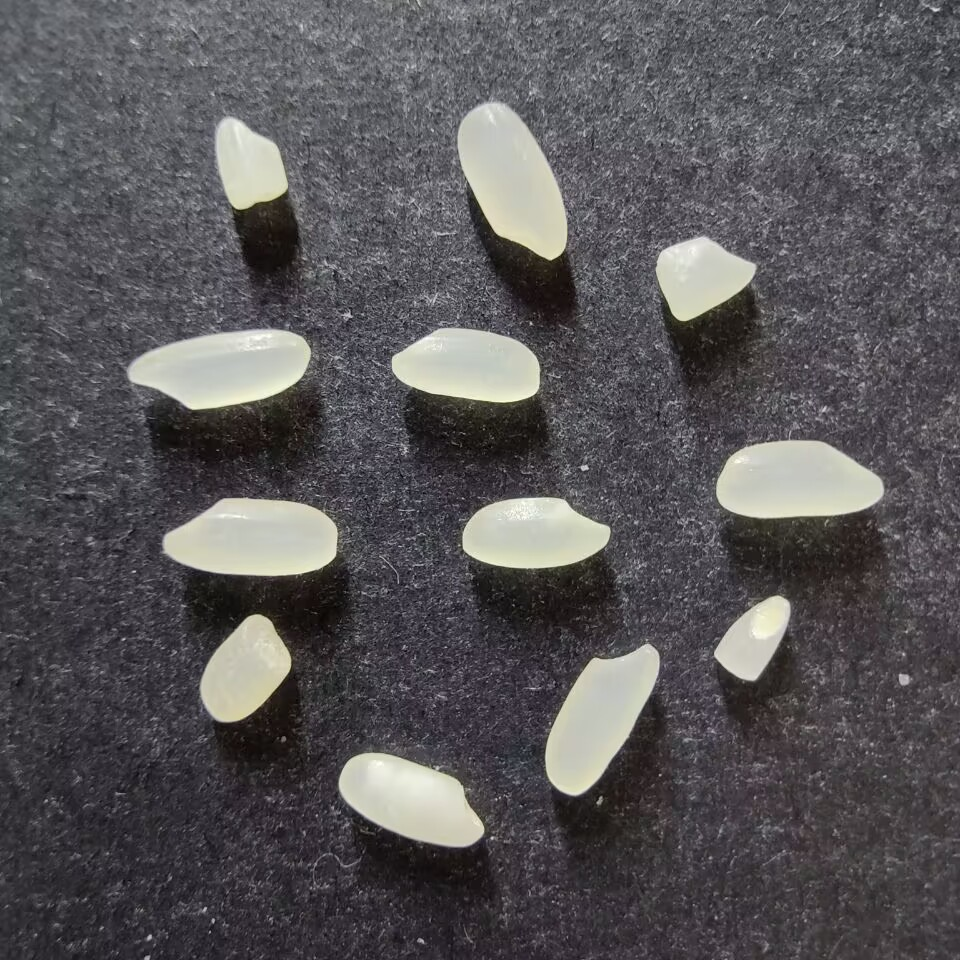broken: (199, 614, 292, 723), (655, 236, 757, 322), (214, 117, 288, 209), (713, 595, 791, 682)
rice: (544, 642, 660, 797), (456, 102, 567, 260), (127, 329, 310, 410), (162, 497, 338, 577), (338, 752, 484, 848), (715, 439, 884, 519), (391, 327, 540, 403), (461, 496, 611, 569)
